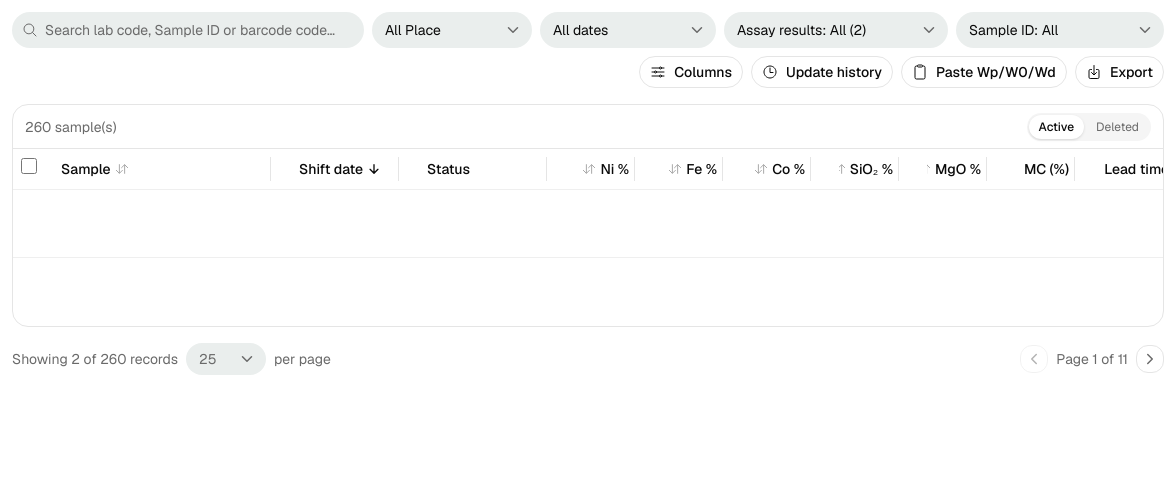
filling in identities › stops at the bulk limit when more match
Step 1. Click the checkbox named "Select the rows on this page" → {"x": 29, "y": 166}, box [21,158,37,174]
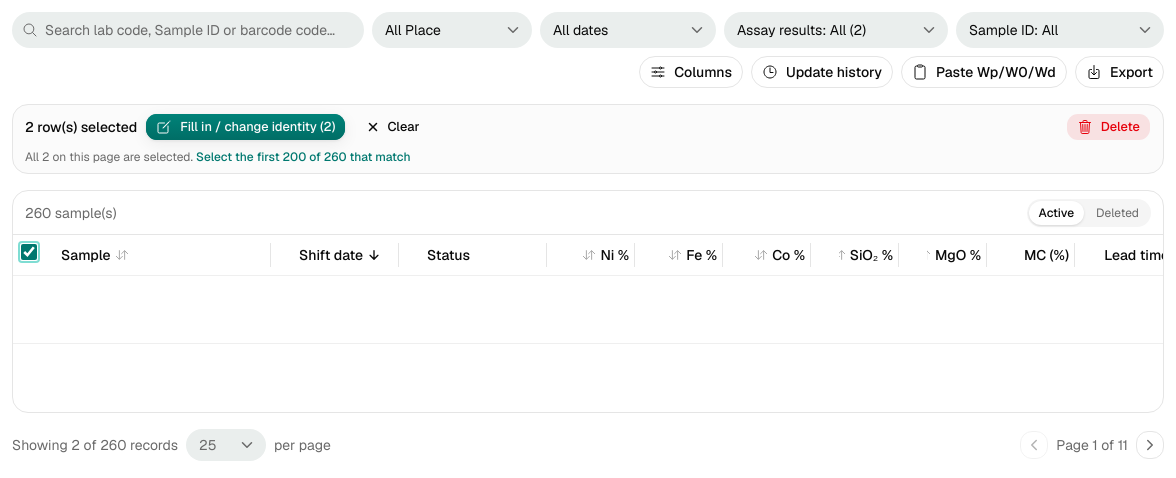
Step 2. Click the button "Select the first 200 of 260 that match" → {"x": 303, "y": 157}, box [196,149,410,165]
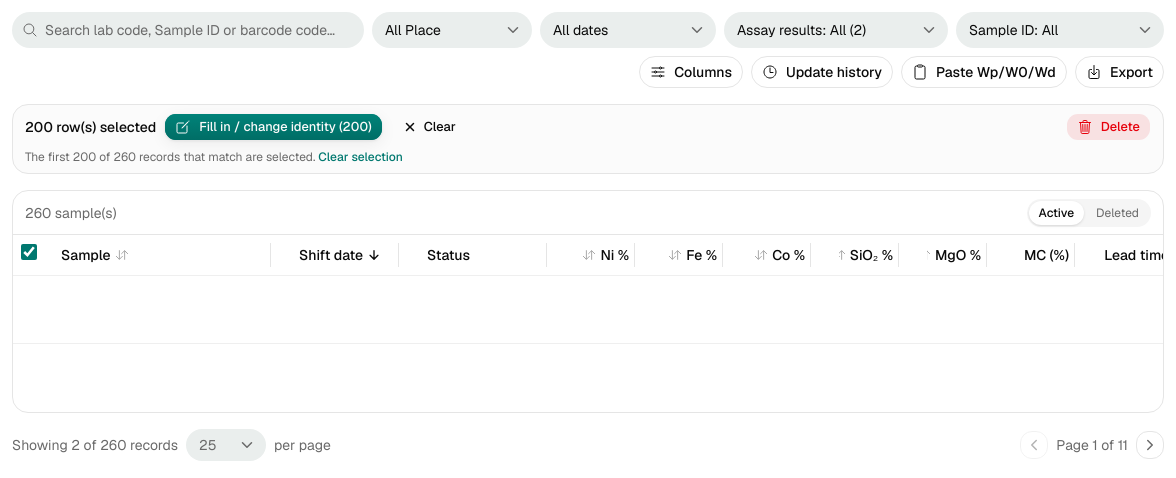
Check: the text "The first 200 of 260 records that match are selected." is shown, box [25,149,315,165]
